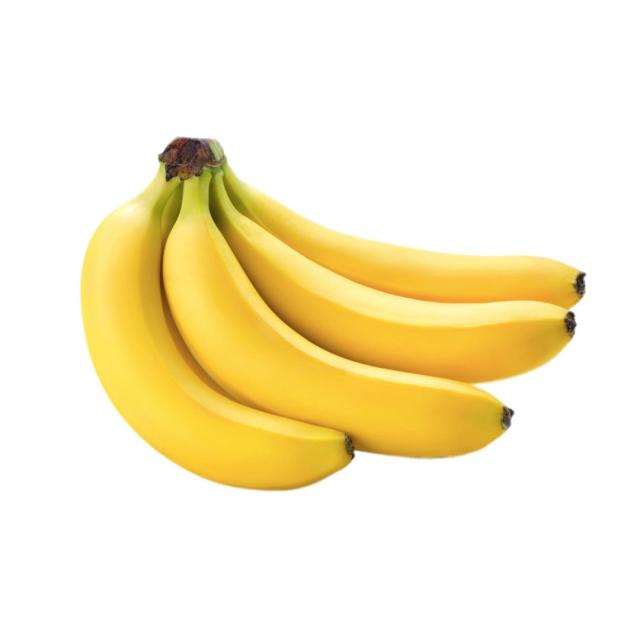Pisang: (160, 171, 516, 459), (80, 180, 351, 494), (211, 144, 573, 379), (215, 149, 585, 307)
